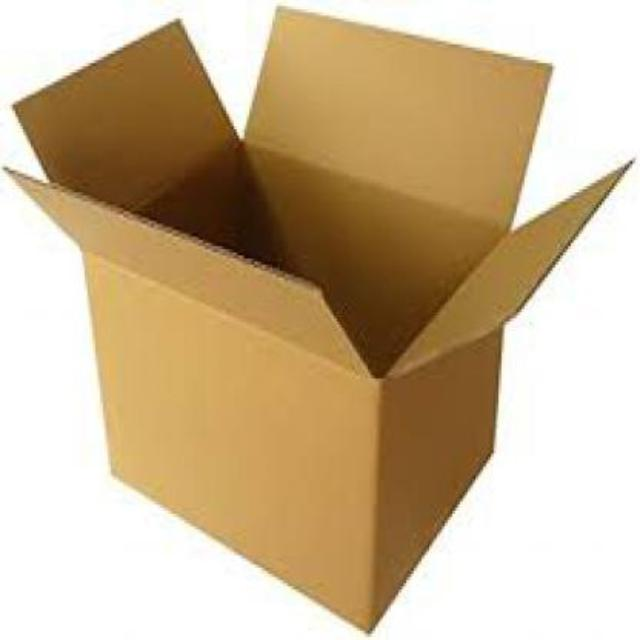cardboard_box: (17, 11, 633, 637)
